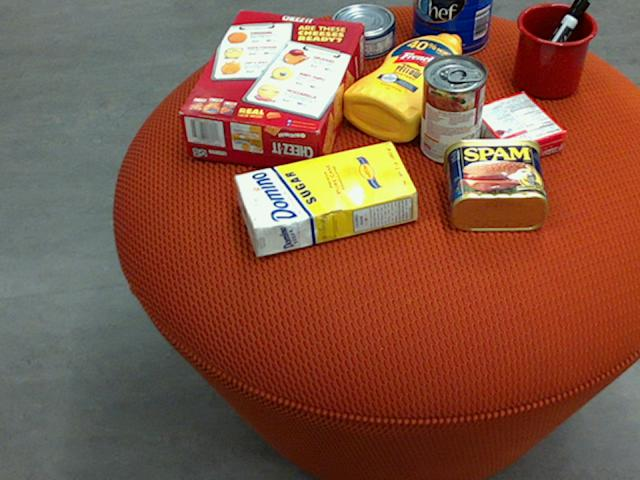cracker_box: (176, 9, 364, 173)
gelatin_box: (470, 92, 567, 166)
large_marker: (522, 0, 589, 87)
master_chef_can: (411, 0, 492, 54)
mug: (513, 2, 597, 97)
mustard_bottle: (341, 33, 462, 141)
potted_meat_can: (442, 137, 546, 230)
sugar_box: (232, 139, 418, 257)
tomato_soup_can: (420, 52, 485, 163)
tuna_fish_can: (329, 2, 394, 56)
